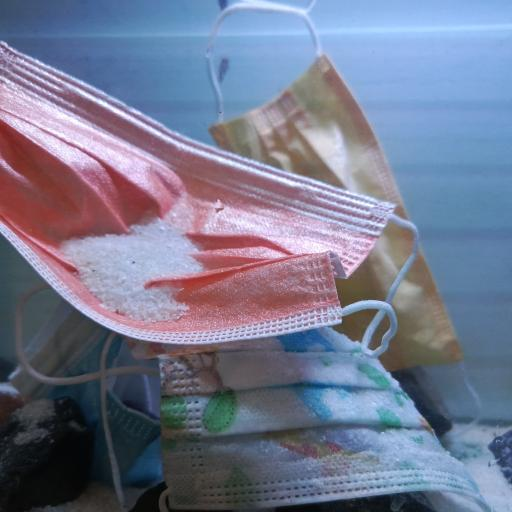mask: (0, 38, 420, 355), (208, 50, 465, 372), (155, 326, 491, 512), (6, 298, 168, 492)
